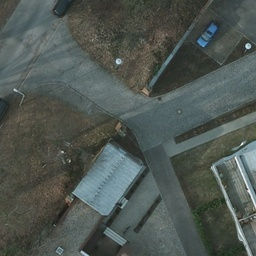car: (196, 20, 220, 49), (55, 1, 75, 18)
